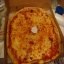pizza: (7, 8, 59, 64)
